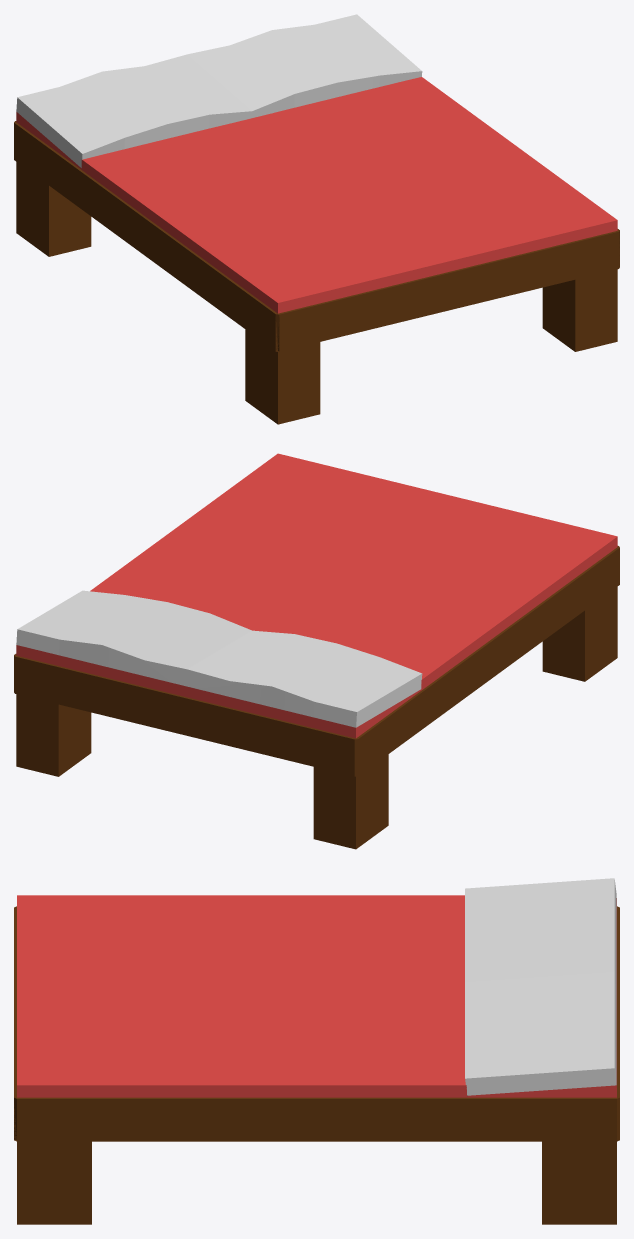
Rendered from bedSingle.fbx.
3 views of the same model, one above another, from view 1: azimuth 30°, elevation 25°; view 2: azimuth 150°, elevation 25°; view 3: azimuth 270°, elevation 25° (orthographic). The views are drawn at different scales.
Parts seen in each view (by area): view 1: Cube; view 2: Cube; view 3: Cube.
Part boxes in pixels (left/top/right/bottom): Cube: left=14, top=14, right=619, bottom=424; Cube: left=14, top=453, right=619, bottom=849; Cube: left=14, top=878, right=619, bottom=1224.
Bounding box in the file's own units: 304 × 120 × 405.
